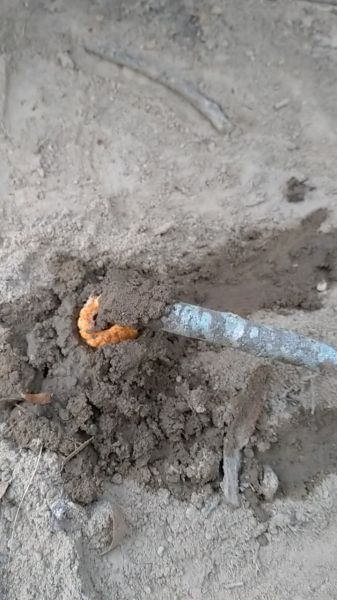eggs: (76, 292, 140, 351)
